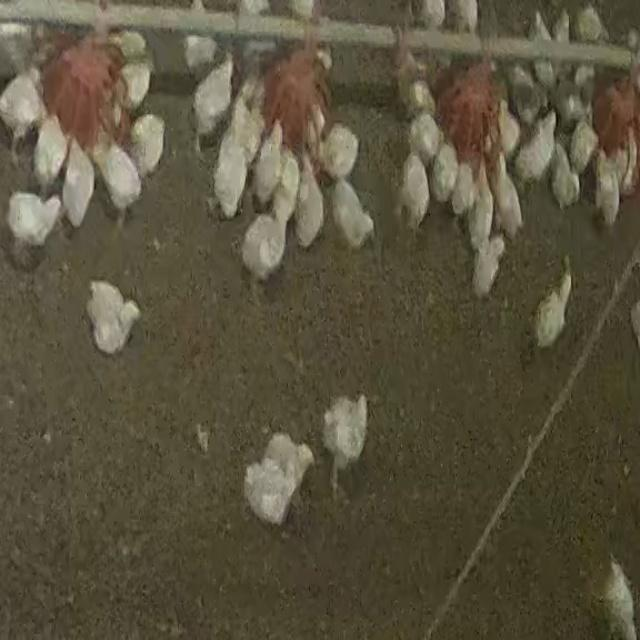chicken: (321, 394, 373, 472), (190, 55, 236, 143), (88, 274, 141, 350), (534, 262, 574, 350), (240, 212, 288, 284), (0, 67, 46, 142), (238, 459, 295, 519), (213, 129, 251, 219), (100, 138, 144, 215), (7, 190, 62, 250), (490, 151, 524, 240), (513, 113, 556, 182), (598, 556, 636, 633), (252, 122, 286, 205), (63, 139, 95, 226), (33, 114, 68, 193), (336, 179, 375, 246), (270, 155, 301, 237), (526, 8, 556, 91), (471, 233, 507, 302), (130, 112, 167, 178), (400, 150, 431, 228), (320, 122, 361, 180), (228, 83, 260, 157), (468, 169, 496, 251), (261, 431, 313, 473), (550, 7, 574, 89), (593, 154, 621, 222), (551, 147, 581, 210), (450, 158, 478, 220), (569, 117, 600, 173), (409, 112, 442, 164), (298, 160, 319, 240), (119, 60, 152, 109), (496, 98, 522, 158), (182, 32, 219, 74), (433, 139, 459, 196), (574, 3, 606, 42)
